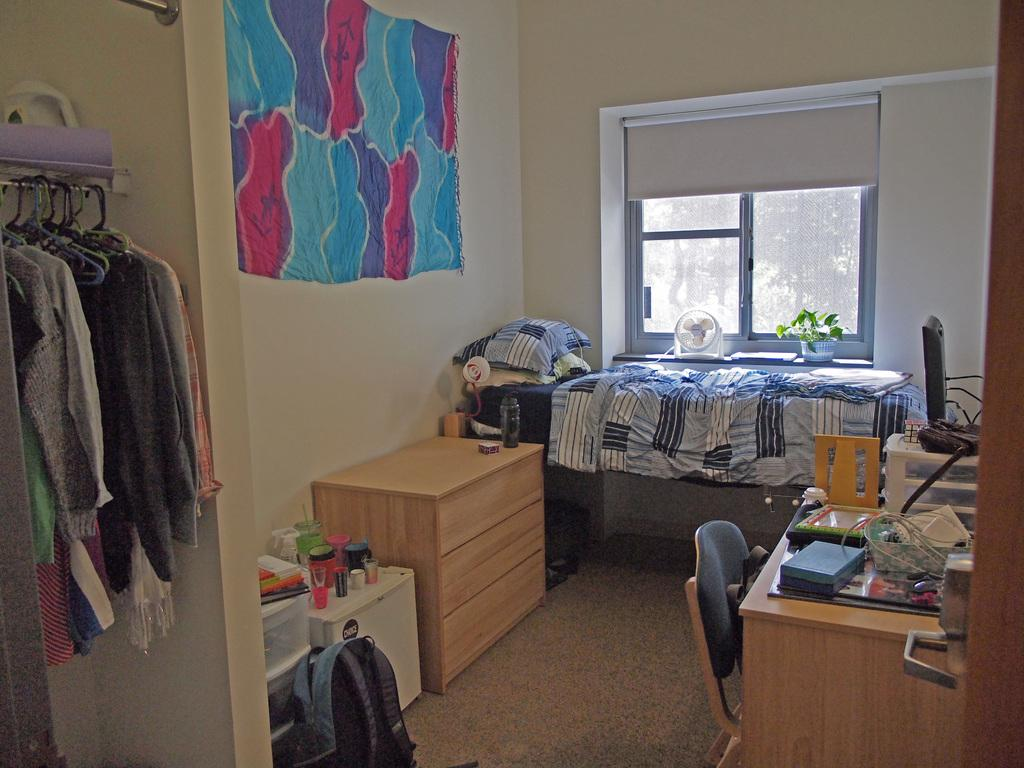Luggage-and-bags: (292, 628, 419, 767)
